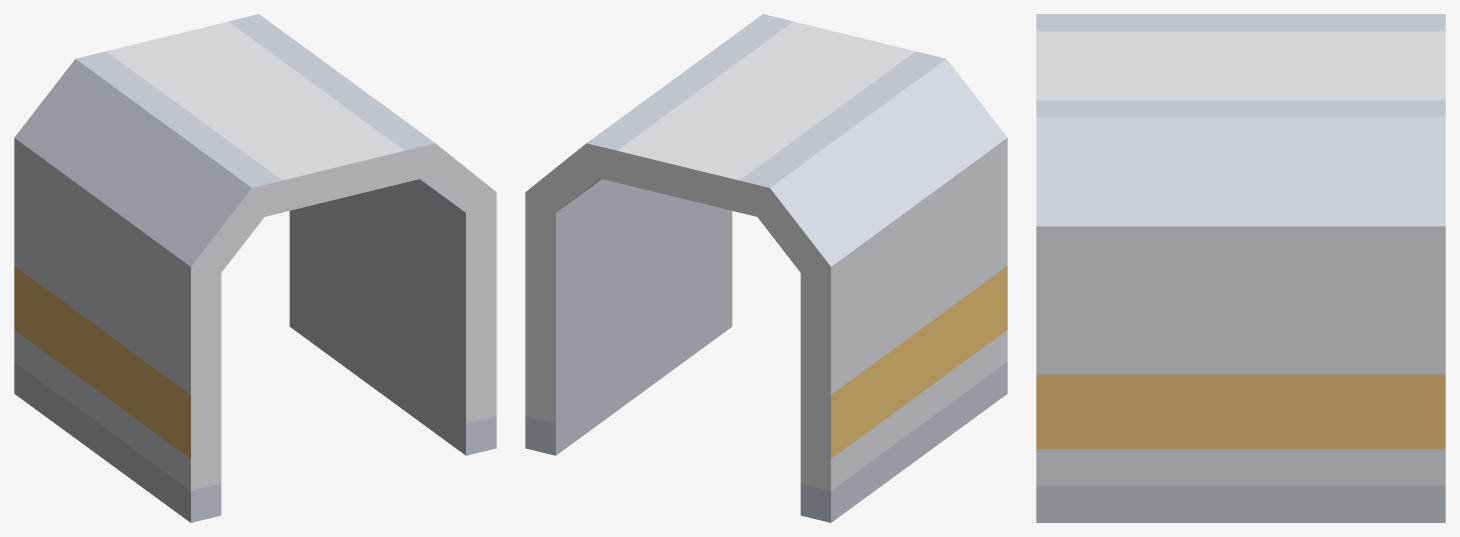
Rendered from corridor.glb.
The picture shows the model from 3 angles, left to right: view 1: azimuth 30°, elevation 25°; view 2: azimuth 150°, elevation 25°; view 3: azimuth 270°, elevation 25°; orthographic projection. The views are drawn at different scales.
Parts seen in each view (by area): view 1: corridor; view 2: corridor; view 3: corridor.
Part boxes in pixels (x1,y1,x2,y2): corridor: (14, 14, 496, 522); corridor: (525, 14, 1007, 522); corridor: (1036, 14, 1445, 522).
Size of the model in its own units: 1 by 1 by 1.
